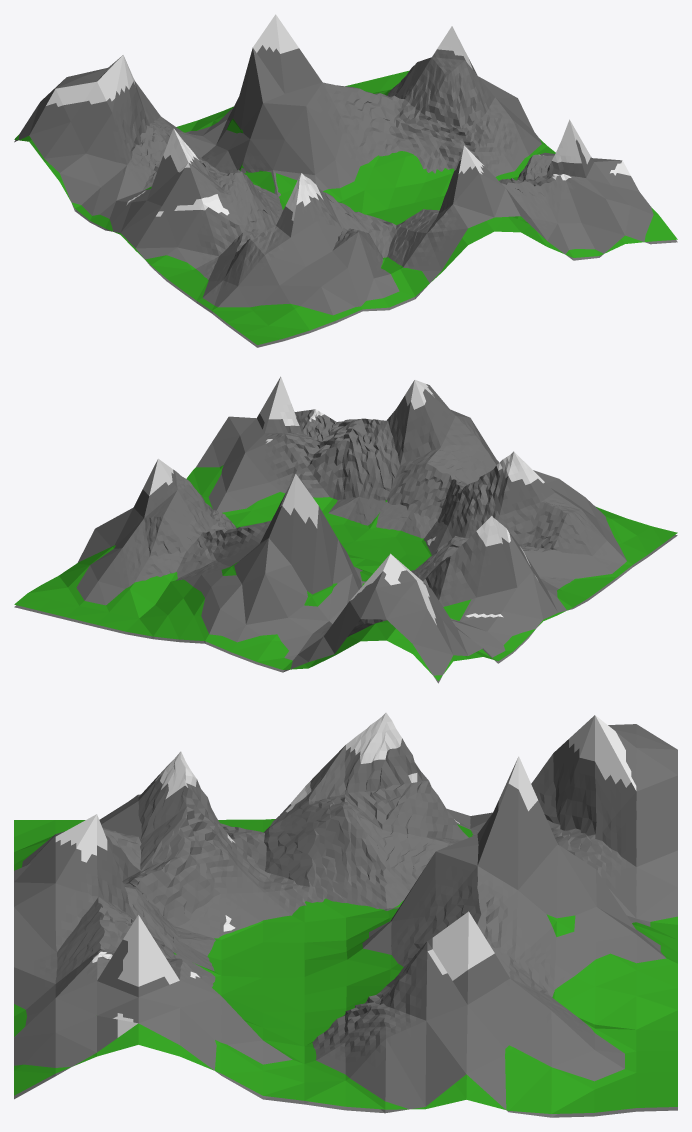
File: Field.fbx
3 renders of one model, top to bottom at view 1: azimuth 30°, elevation 25°; view 2: azimuth 150°, elevation 25°; view 3: azimuth 270°, elevation 25°, orthographic. The views are drawn at different scales.
Parts seen in each view (by area): view 1: Mountains, Field; view 2: Mountains, Field; view 3: Mountains, Field.
Part boxes in pixels (x1,y1,x2,y2): Mountains: [14, 14, 677, 347]; Field: [14, 70, 677, 344]; Mountains: [14, 376, 677, 683]; Field: [14, 465, 677, 680]; Mountains: [14, 712, 677, 1117]; Field: [14, 819, 677, 1113].
Size of the model in its own units: 16961 by 5738 by 16480.
